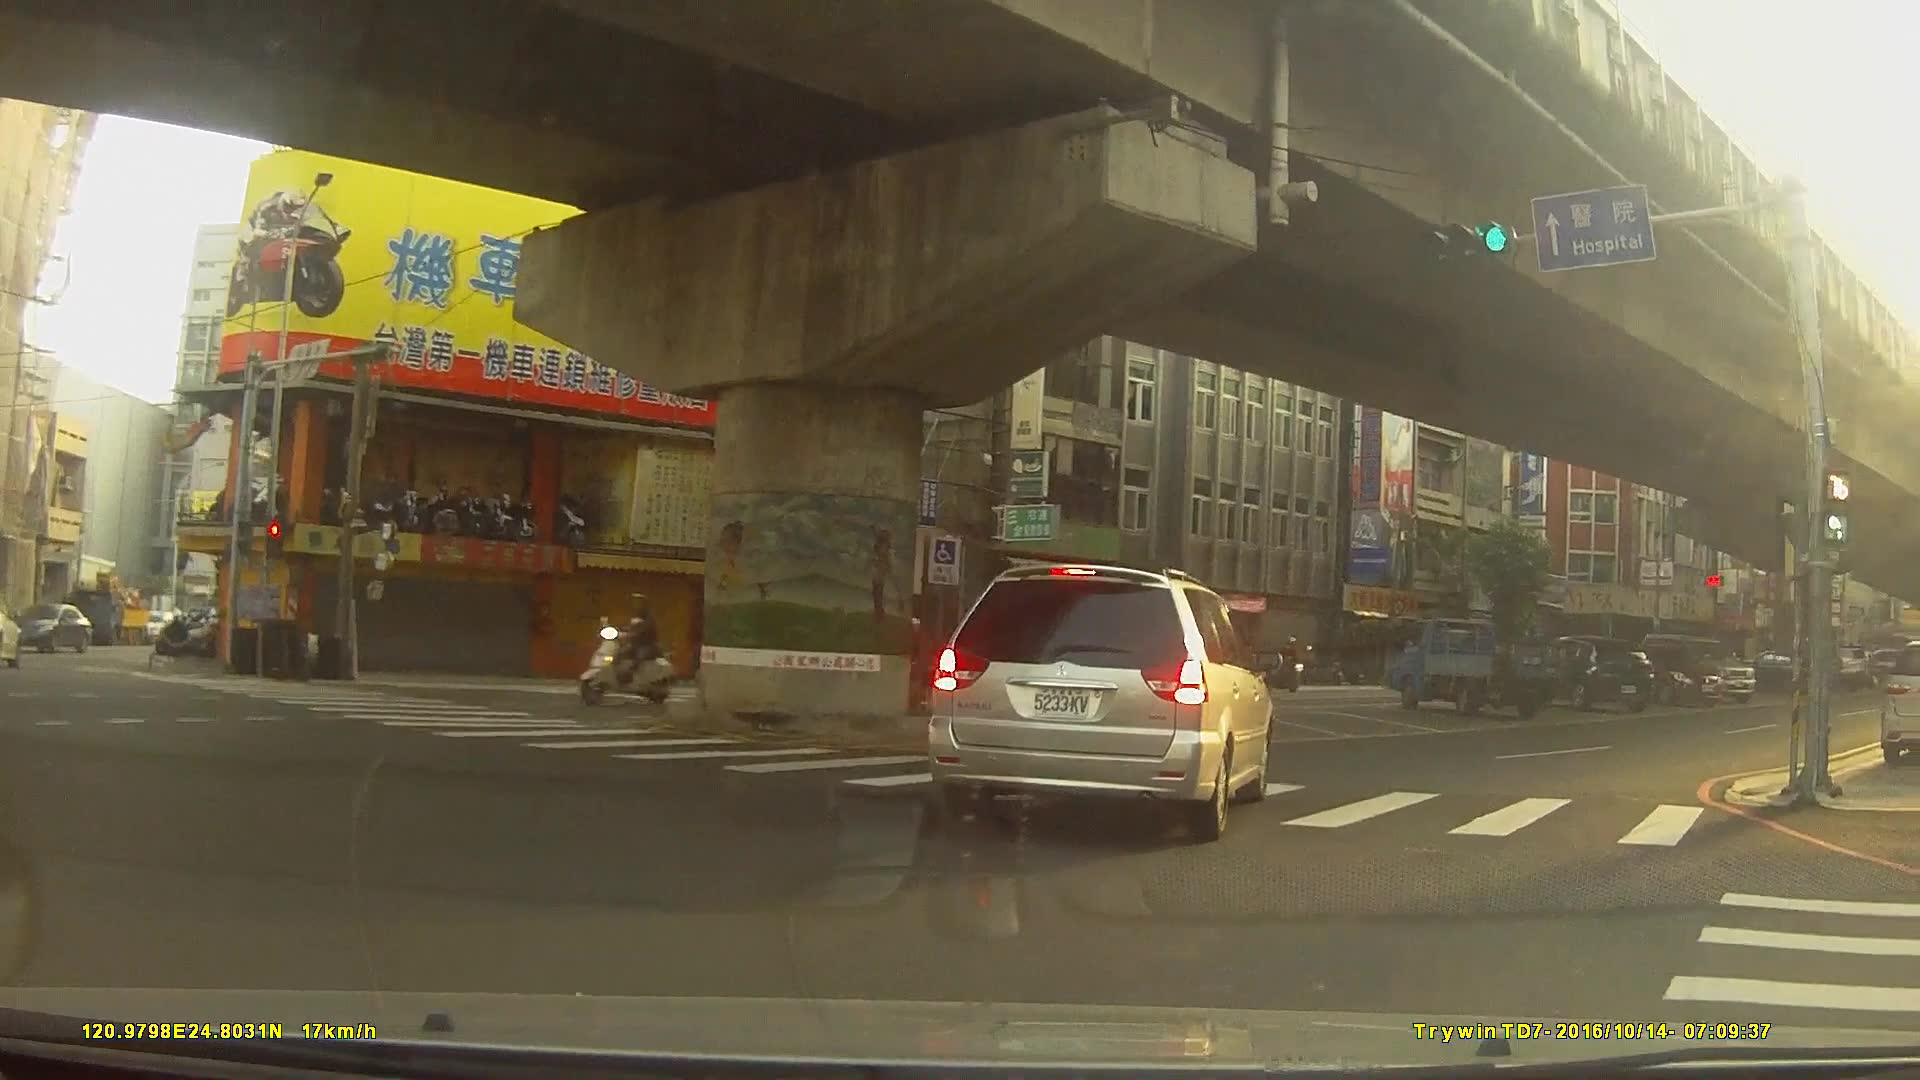rider: (582, 593, 679, 705), (1264, 635, 1303, 690)
vehicle: (926, 562, 1276, 841), (1381, 616, 1562, 719), (1521, 633, 1653, 713), (1612, 642, 1725, 707), (13, 599, 91, 653), (1739, 652, 1811, 691)
